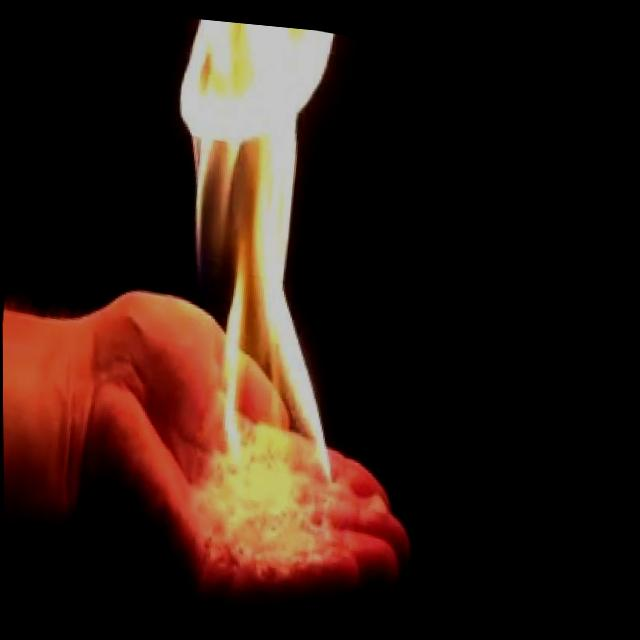helmet: (137, 10, 373, 513)
